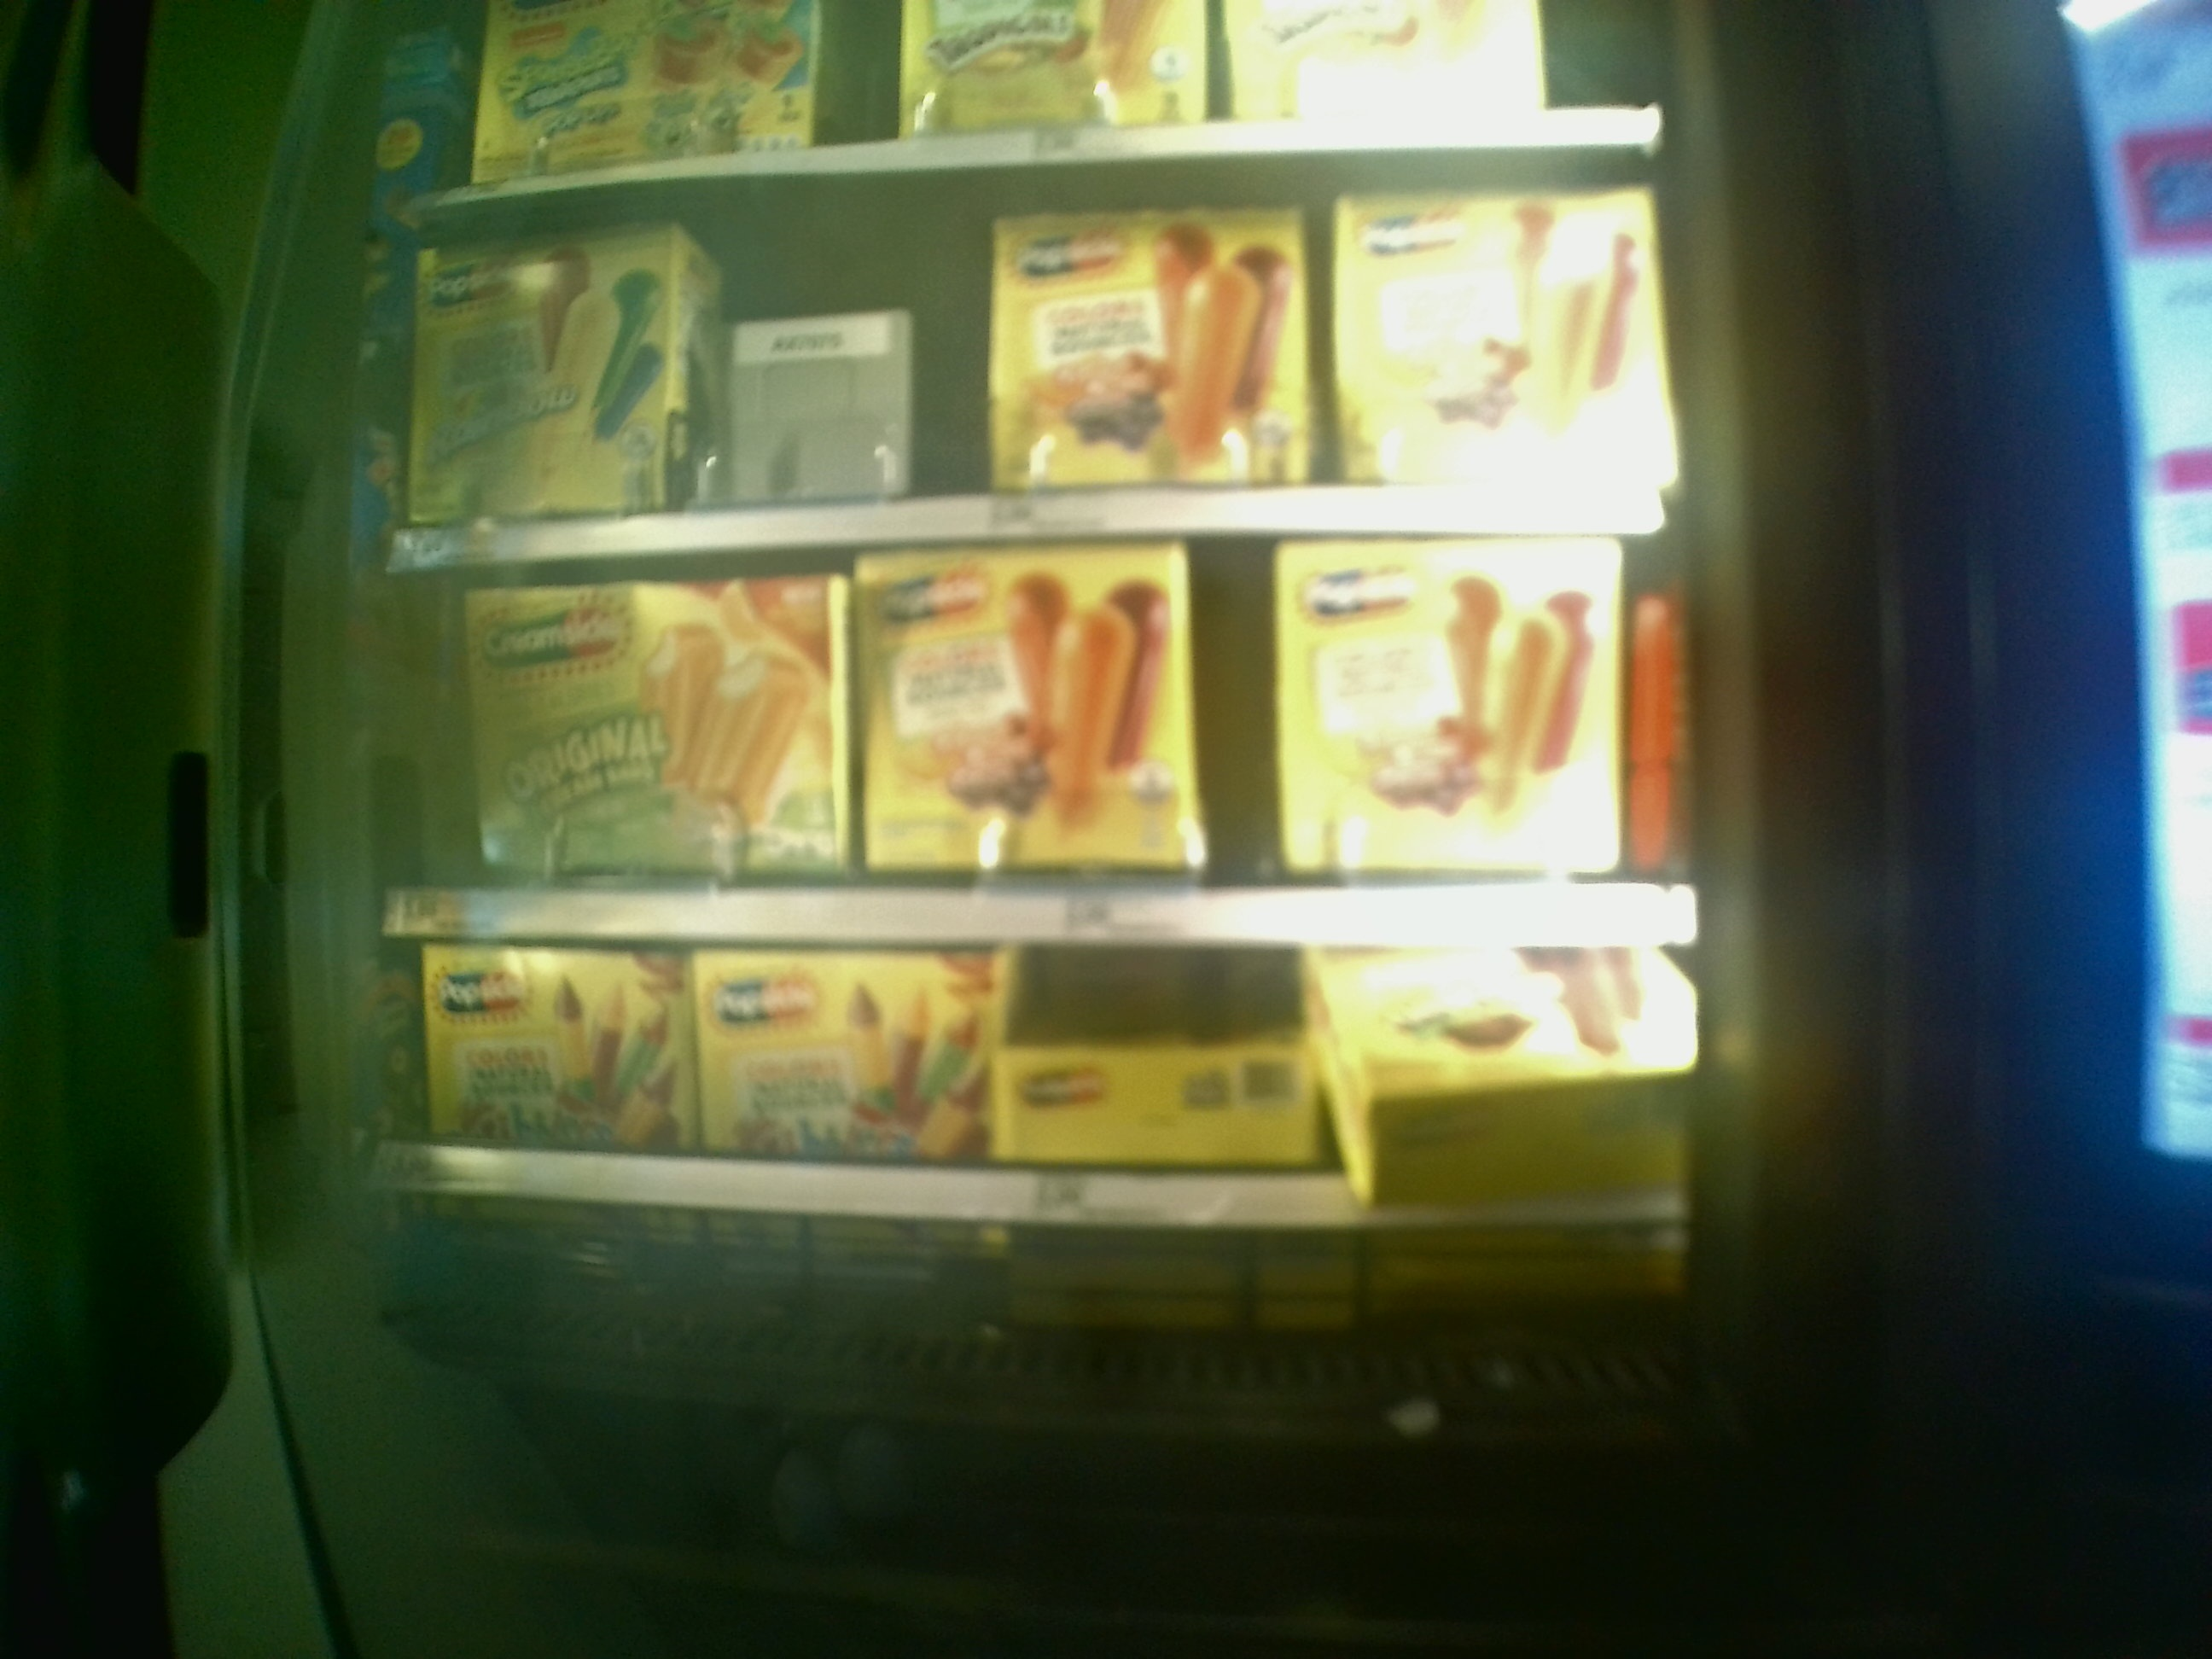frozen-food-shelf: (366, 566, 1696, 955), (364, 957, 1724, 1225)
